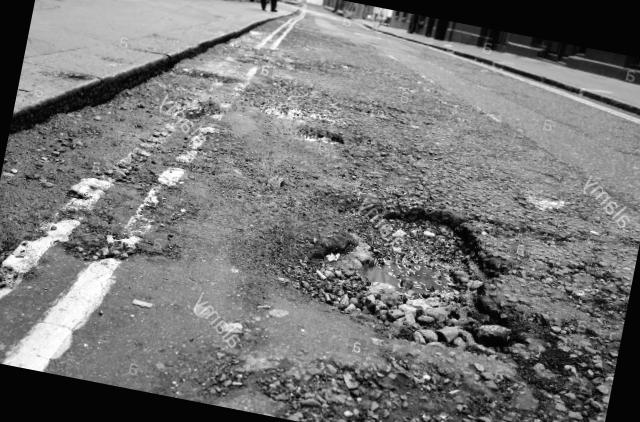Pothole: (241, 141, 640, 422), (149, 54, 258, 132), (279, 109, 354, 159)
